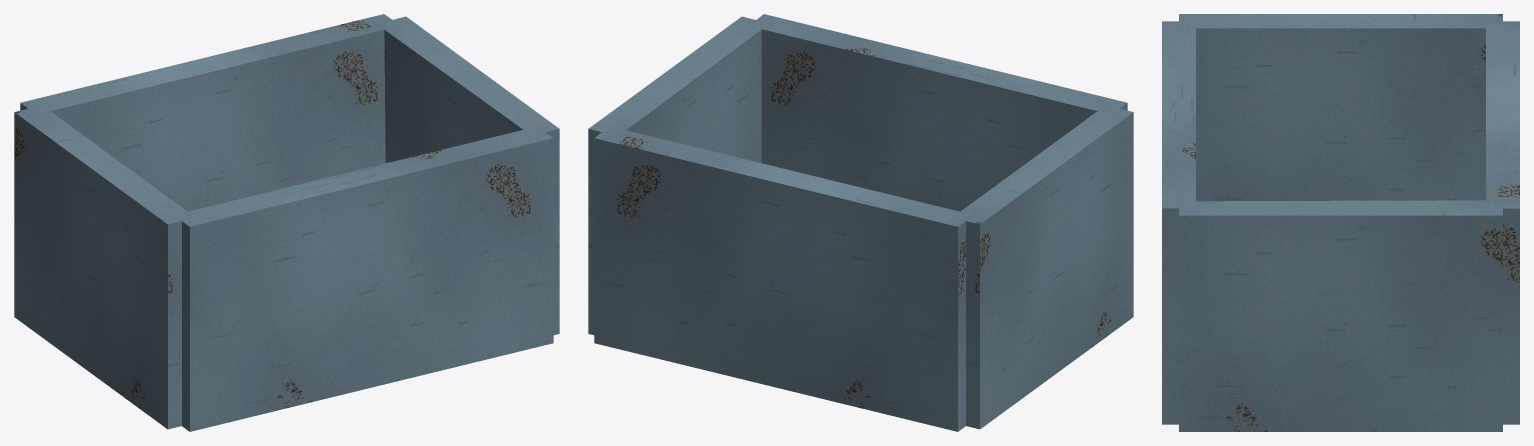
Rendered from crate1_v2.glb.
3 views of the same model, side by side, from view 1: azimuth 30°, elevation 25°; view 2: azimuth 150°, elevation 25°; view 3: azimuth 270°, elevation 25° (orthographic). The views are drawn at different scales.
Parts seen in each view (by area): view 1: Variant_crate1_2; view 2: Variant_crate1_2; view 3: Variant_crate1_2.
Part boxes in pixels (x1,y1,x2,y2): Variant_crate1_2: (14,14,559,431); Variant_crate1_2: (588,14,1133,431); Variant_crate1_2: (1162,14,1519,431).
Size of the model in its own units: 0.56 by 0.28 by 0.42.
1 material, 1 textured.
